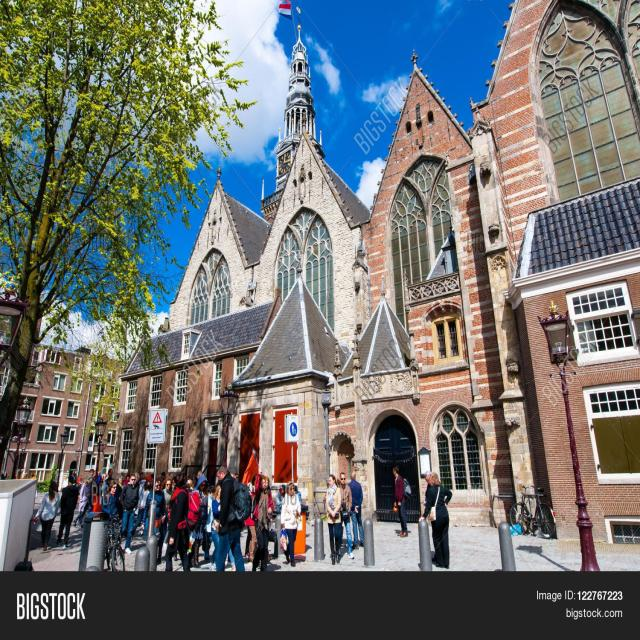body: (252, 535, 364, 571), (71, 466, 203, 496), (164, 472, 202, 572), (417, 471, 453, 569), (214, 464, 246, 572), (141, 476, 167, 564), (252, 472, 274, 573), (278, 479, 302, 568), (187, 474, 209, 570), (32, 481, 60, 552), (54, 474, 80, 550), (324, 473, 343, 567), (155, 475, 174, 566), (130, 474, 154, 544), (120, 472, 140, 554), (391, 464, 413, 538), (394, 527, 438, 564), (337, 472, 355, 560), (346, 469, 365, 550), (100, 481, 122, 547), (208, 484, 222, 572), (244, 473, 257, 559), (204, 484, 216, 562), (74, 478, 90, 528), (422, 470, 433, 507), (275, 483, 286, 519), (264, 474, 274, 512), (101, 468, 114, 497), (243, 525, 251, 563), (102, 476, 112, 503), (114, 476, 124, 501), (293, 484, 303, 504), (123, 472, 131, 487), (61, 474, 69, 489), (22, 471, 36, 479), (230, 470, 240, 481), (87, 468, 95, 478)
